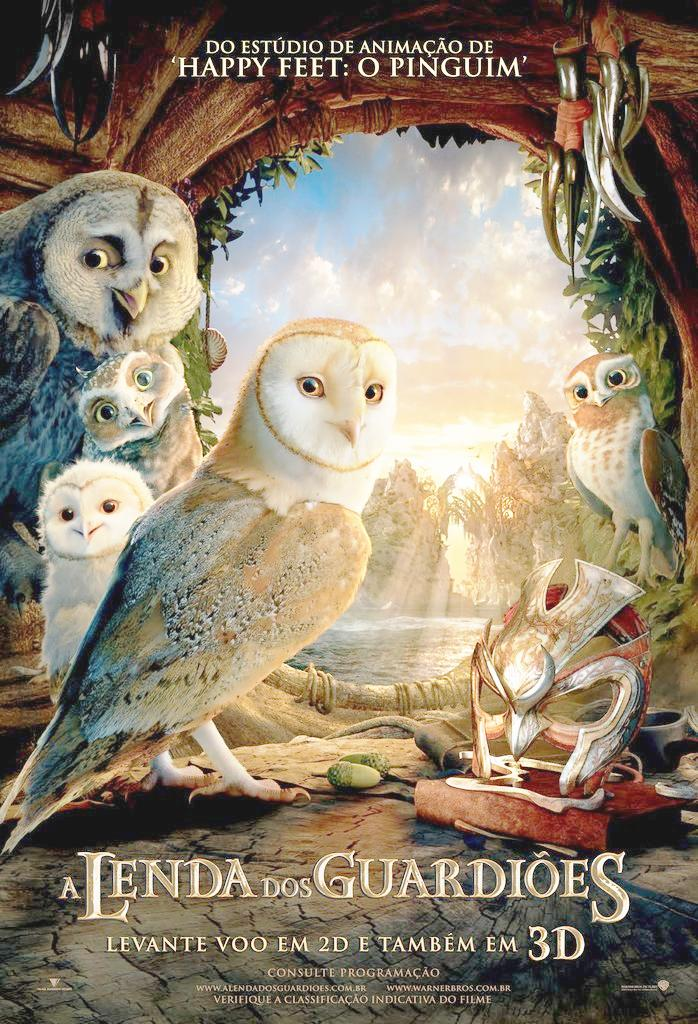Owl: (0, 316, 396, 864), (35, 456, 282, 804), (0, 168, 202, 512), (548, 346, 696, 596), (70, 352, 210, 494)
